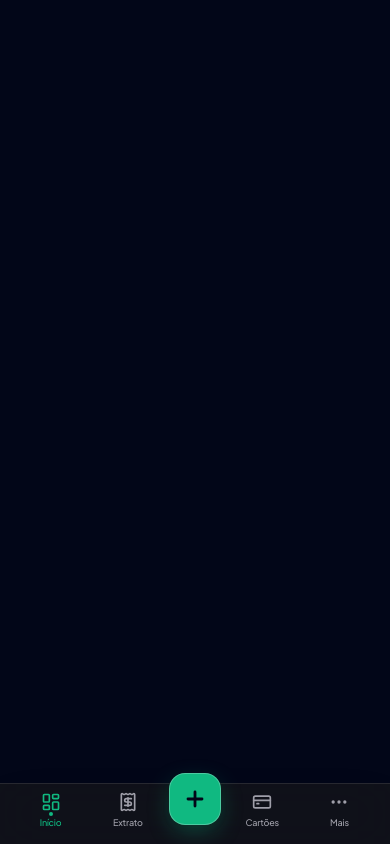
<BottomNavBar /> (Barra de Navegação Inferior Mobile-First) › deve abrir o Bottom Sheet ao clicar em Mais e permitir navegar para Dívidas
What coordinates should you click on to do the following:
click the button with aria-label "Mais opções"
I would click on:
 (339, 811)
Its box is [301, 788, 378, 834].
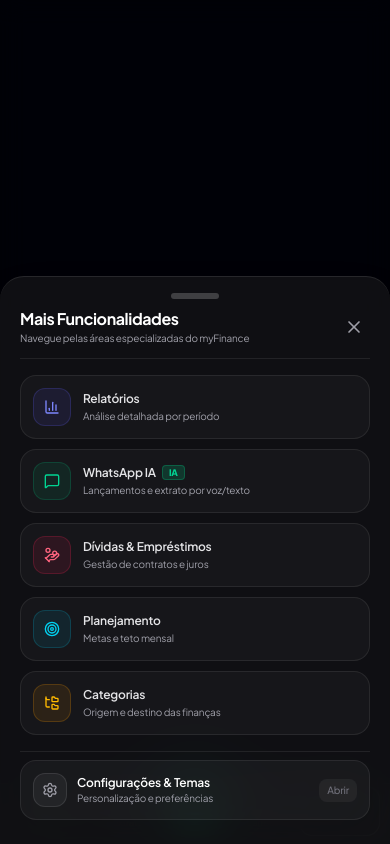
Now the heading "Mais Funcionalidades" is shown, box [20, 308, 179, 329]
Now the text "Dívidas & Empréstimos" is shown
Now the text "WhatsApp IA" is shown, box [83, 464, 156, 480]
// Clica em Dívidas
What coordinates should you click on to do the following:
click the text "Dívidas & Empréstimos"
I would click on:
 (147, 546)
Its box is [83, 538, 212, 554].
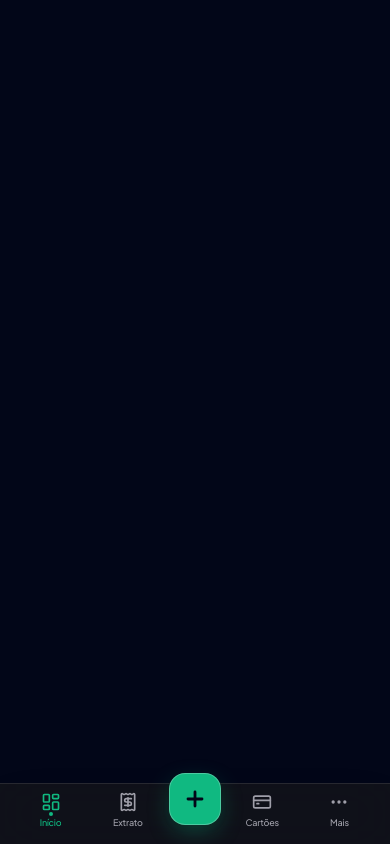
Now the heading "Mais Funcionalidades" is gone
